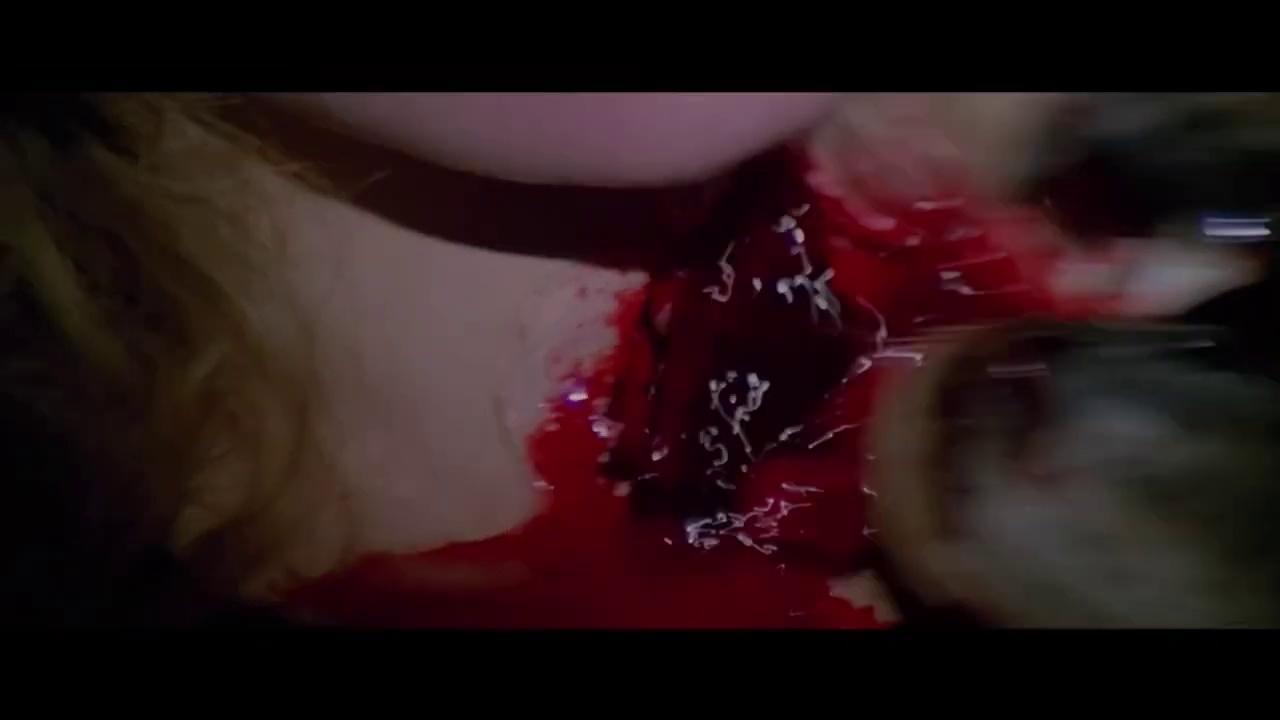Fire: (295, 139, 1157, 628)
